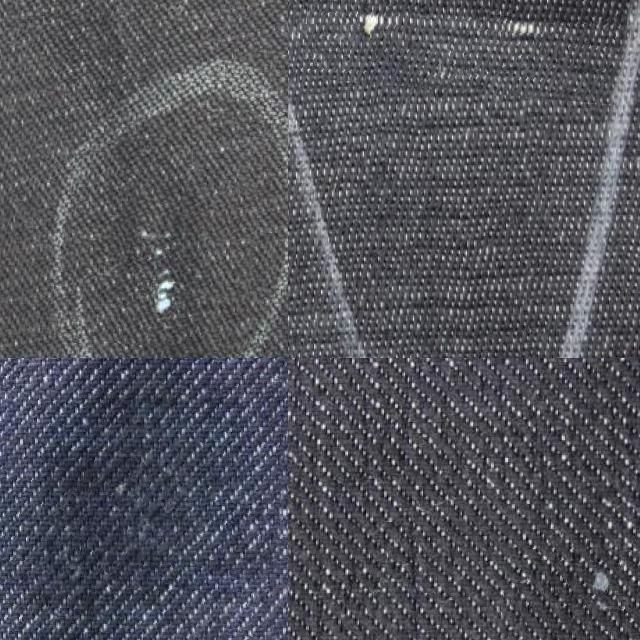Hole: (0, 358, 288, 640)
Thread_other: (303, 0, 629, 98), (116, 180, 256, 352), (486, 544, 640, 640)
